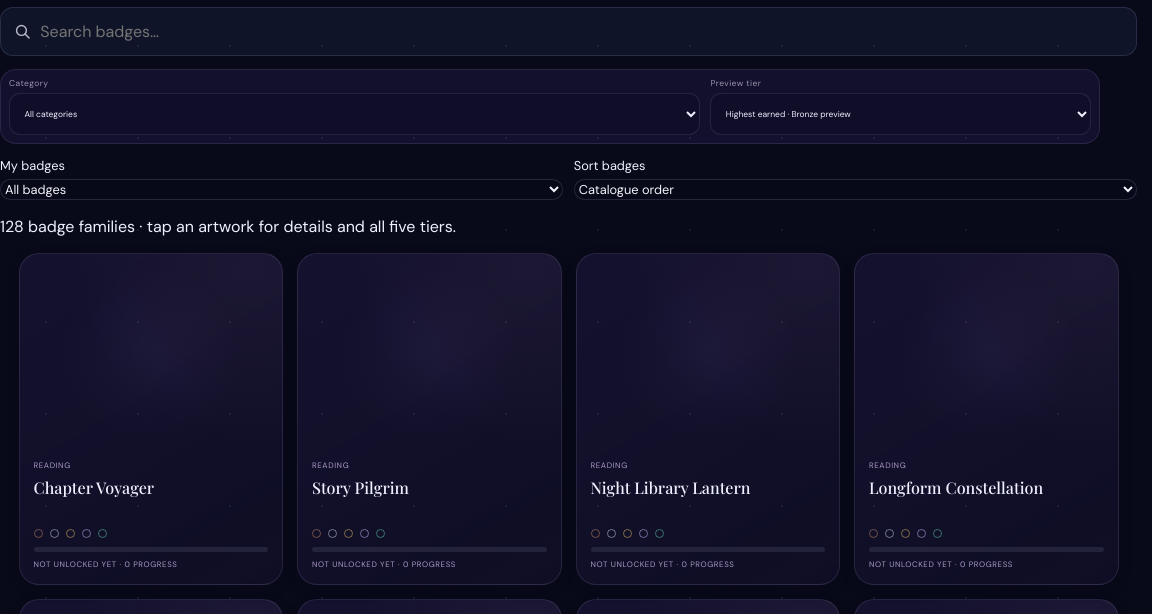
Scenario: opens a keyboard-dismissable in-page art preview with all five tiers
(page scrolled)
Click the button named "Enlarge Chapter Voyager artwork" at (151, 360), box x1=34 y1=268 x2=268 y2=453
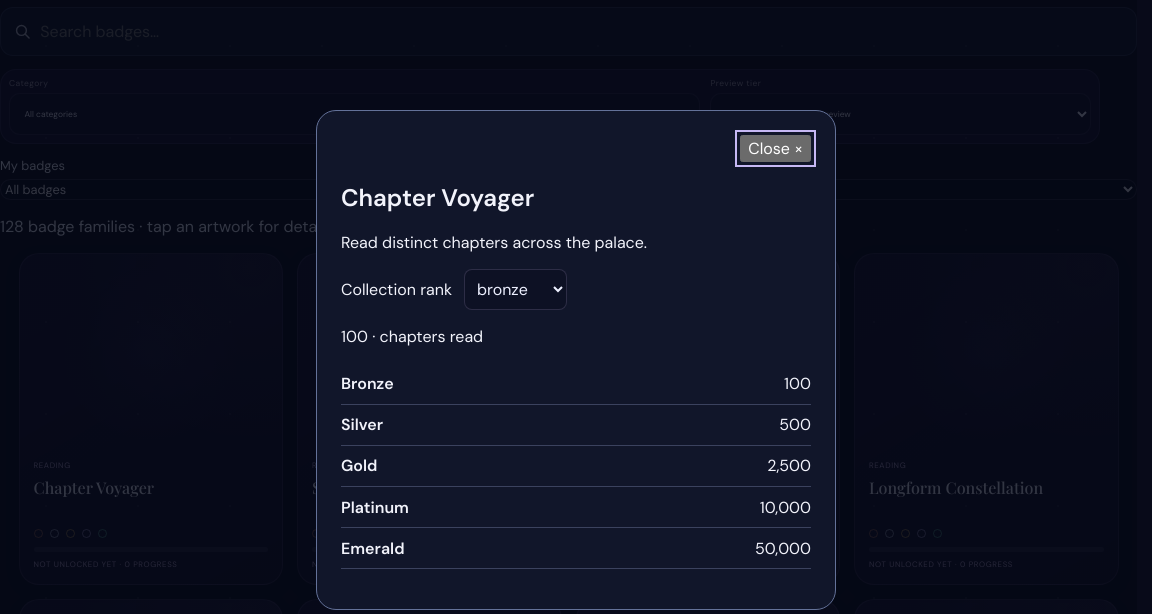
Now the dialog is shown, box x1=316 y1=110 x2=836 y2=610
Click the button with aria-label "Close artwork preview" at (776, 148), box x1=740 y1=135 x2=811 y2=162
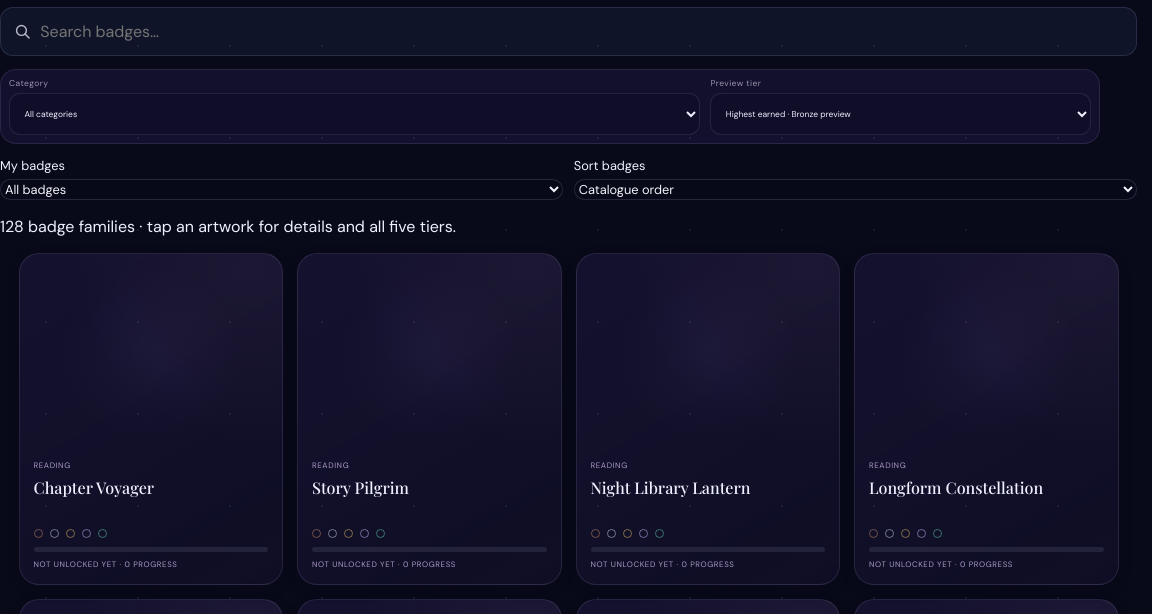
Now the dialog is gone
